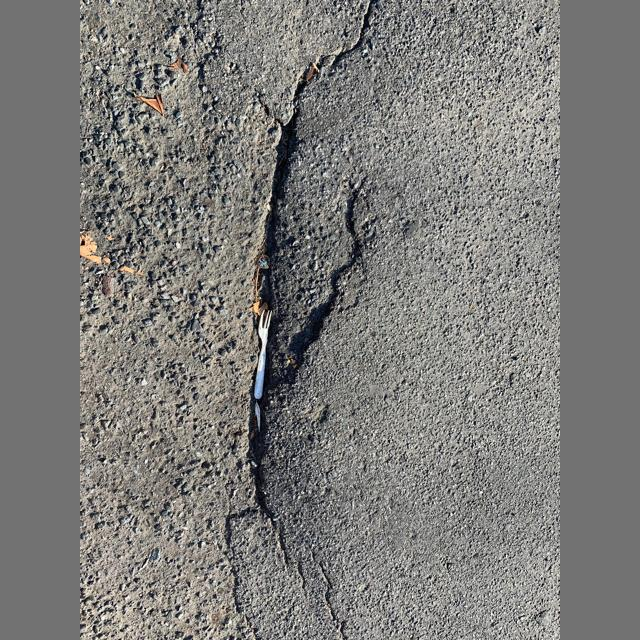litter: (254, 310, 271, 399), (254, 255, 270, 269), (255, 402, 260, 432)
